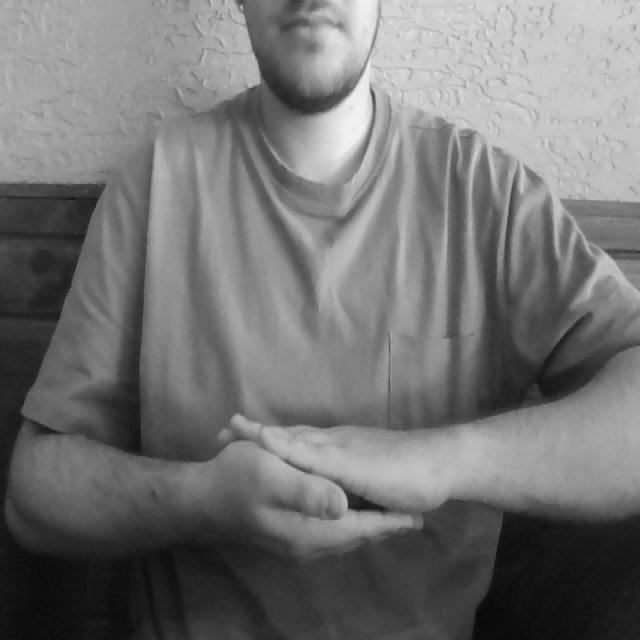Arkadas: (99, 396, 562, 564)
